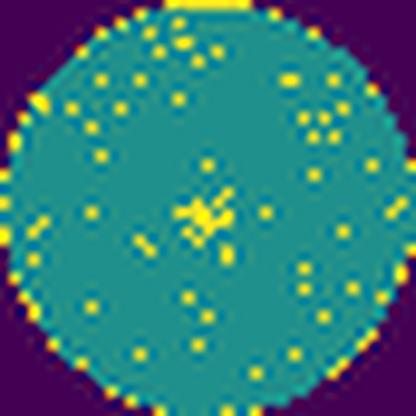Center: (170, 195, 234, 251)
